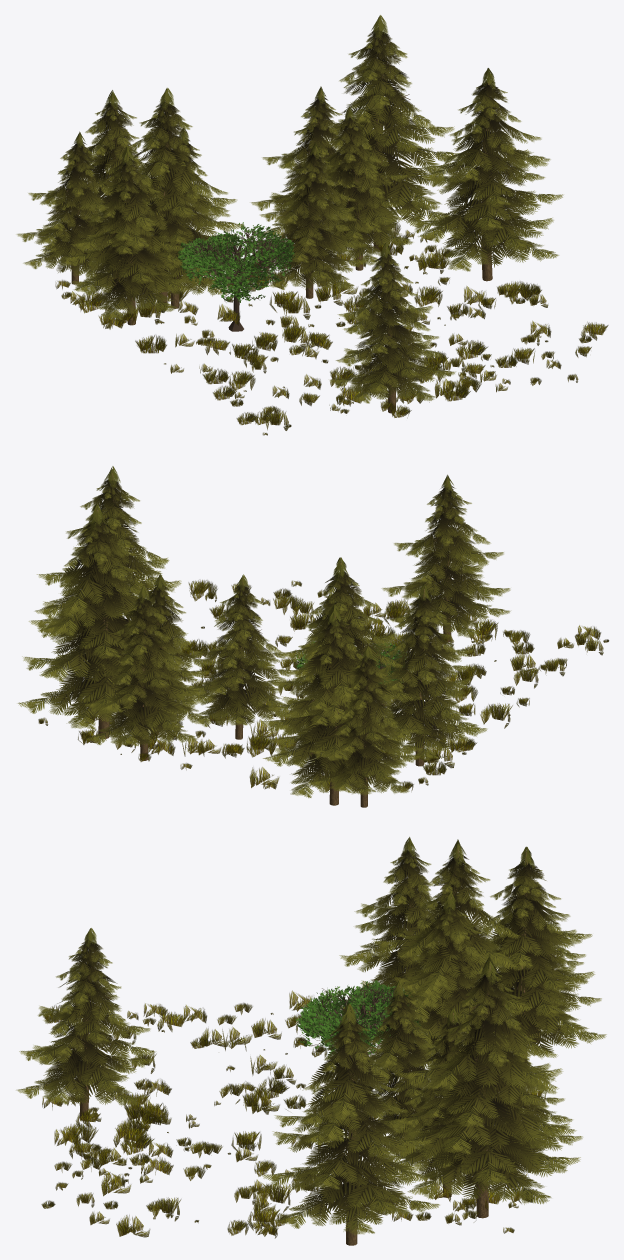
The picture shows the model from 3 angles, top to bottom: view 1: azimuth 30°, elevation 25°; view 2: azimuth 150°, elevation 25°; view 3: azimuth 270°, elevation 25°; orthographic projection. The views are drawn at different scales.
Visible parts, largest first — view 1: Low Poly Stylized 2D Grass.2288; view 2: Low Poly Stylized 2D Grass.2288; view 3: Low Poly Stylized 2D Grass.2288.
Boxes of the visible parts, x1,y1,x2,y2 form: Low Poly Stylized 2D Grass.2288: (16,15,608,435); Low Poly Stylized 2D Grass.2288: (17,466,608,807); Low Poly Stylized 2D Grass.2288: (16,837,606,1245).
Size of the model in its own units: 29.5 by 14.11 by 29.06.
5 materials, 4 textured.
